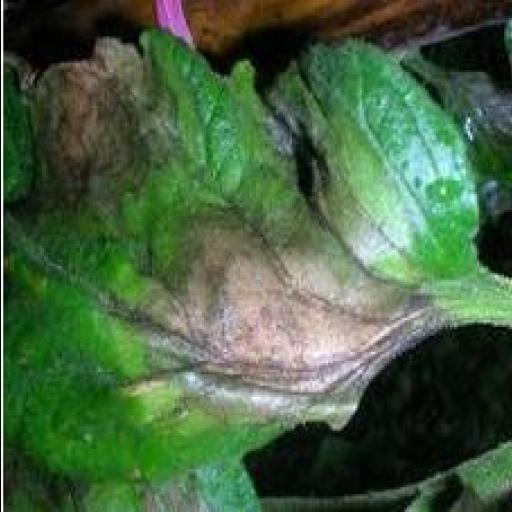disease_tomato: (5, 27, 487, 487)
